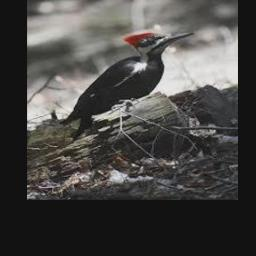Woodpecker: (60, 30, 193, 137)
